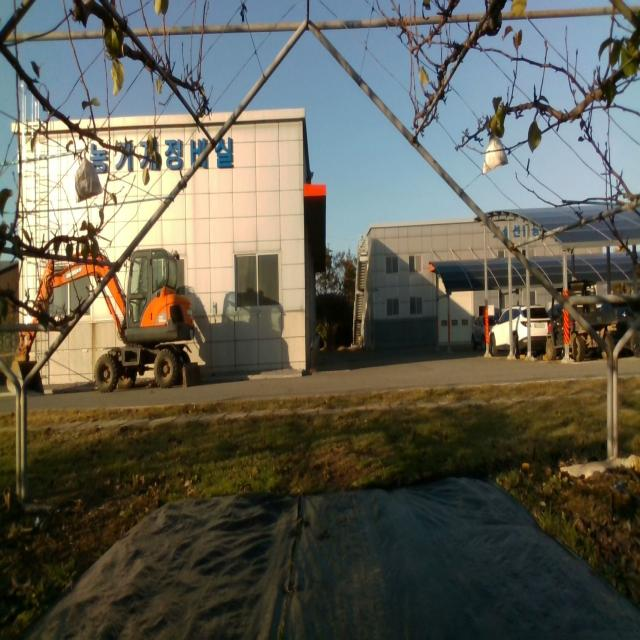pearbags: (74, 152, 104, 204), (482, 134, 508, 175)
